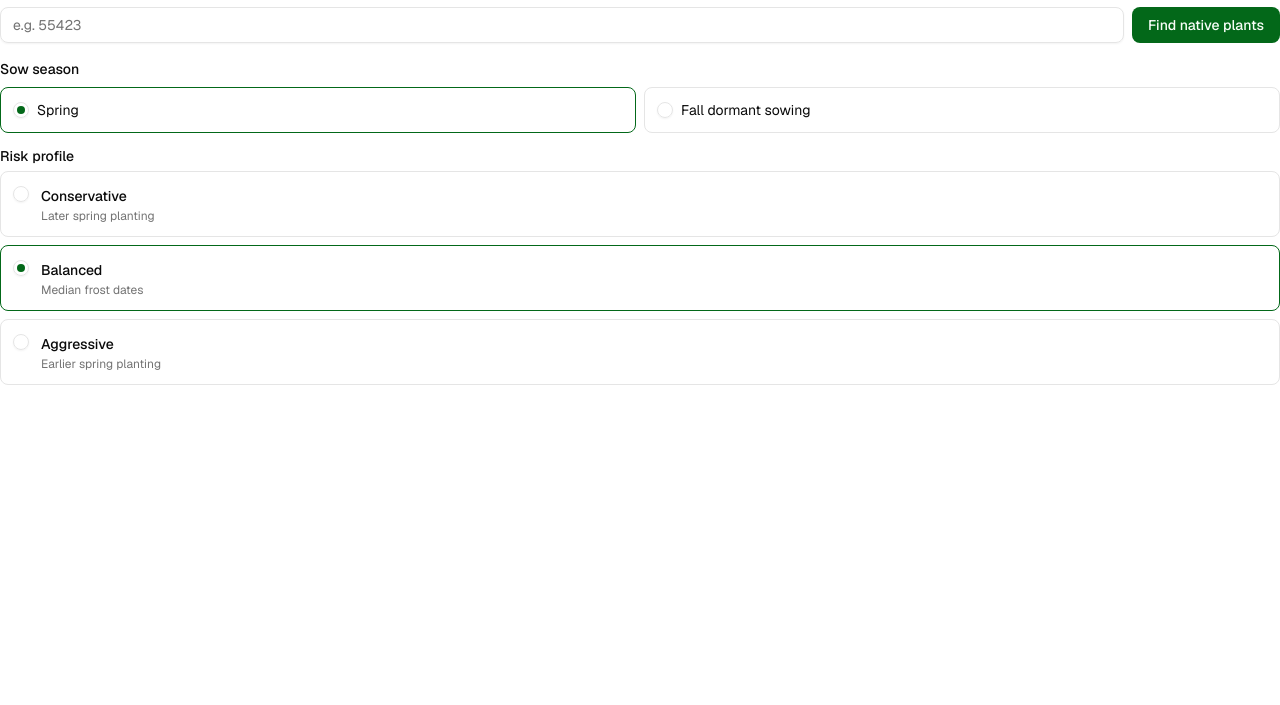
Scenario: NativesLookup range evidence › attributes a BONAP recommendation to both counties in a multi-county ZIP
In the field labelled "ZIP code": coordinates (562, 25) [0,7,1124,43], type "55423"
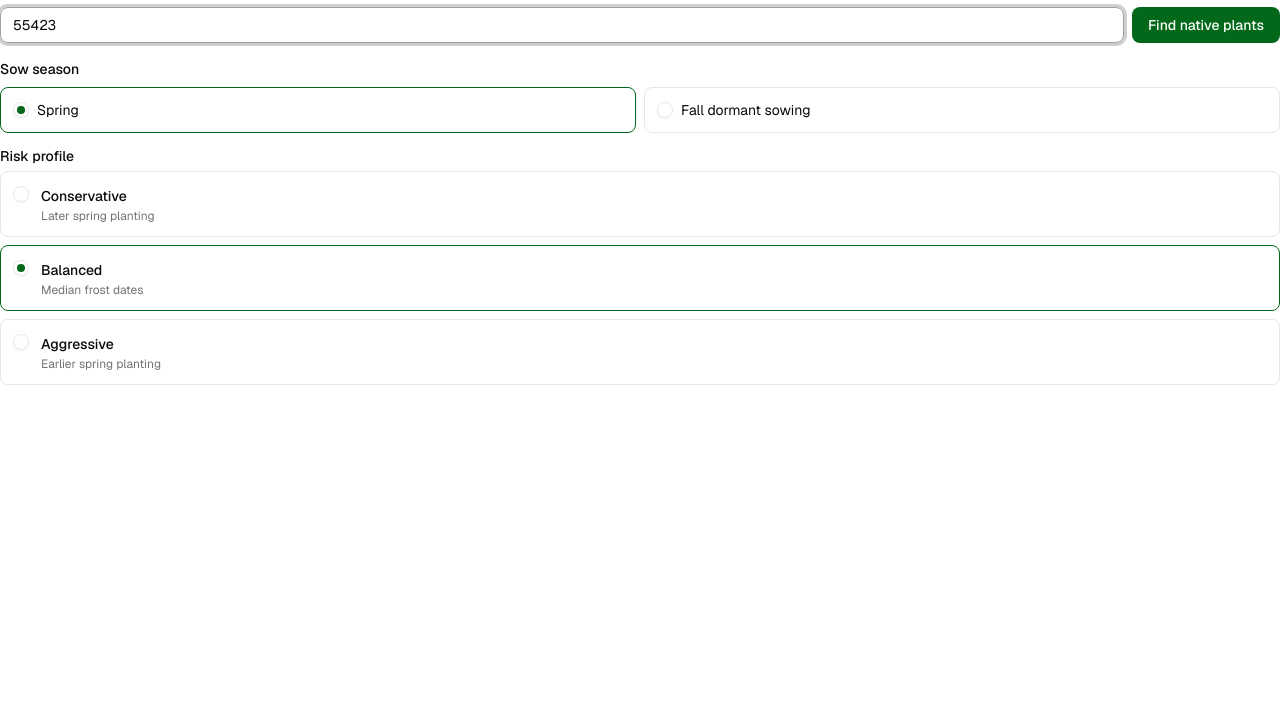
Click the button "Find native plants": coordinates (1206, 25) [1132,7,1279,43]
(page scrolled)
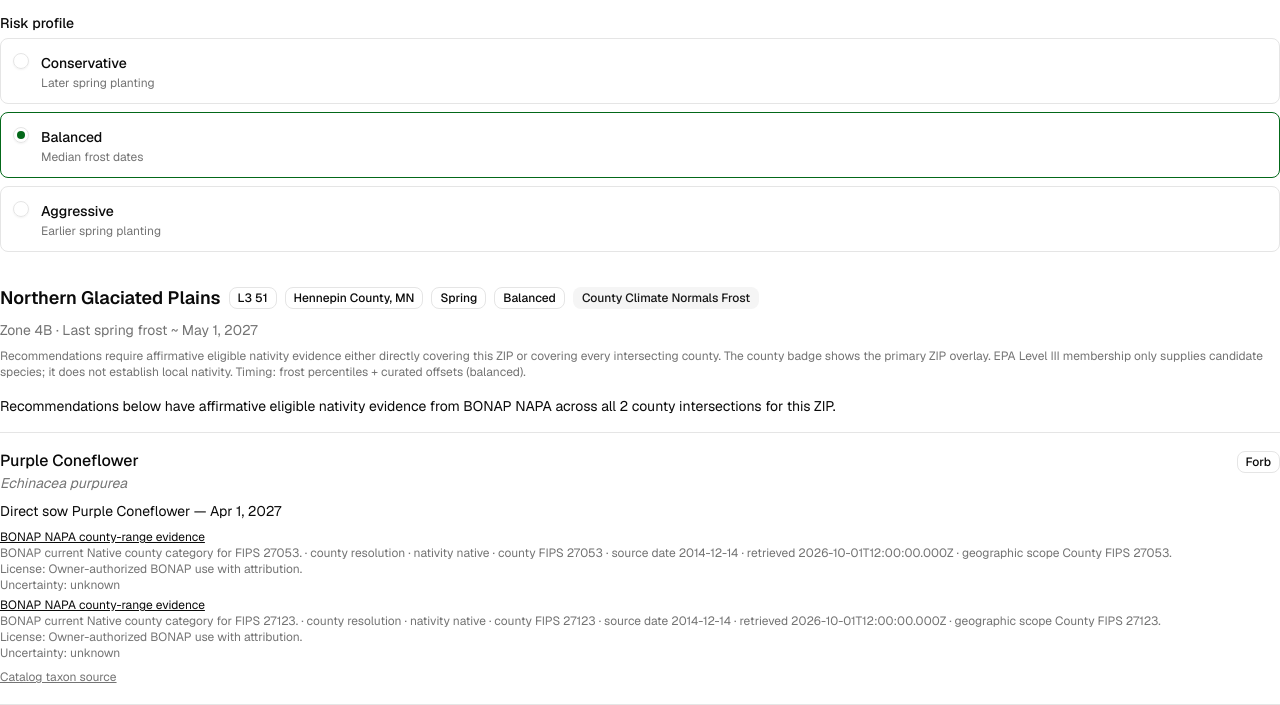
Now the text "BONAP NAPA across all 2 county intersections for this ZIP" is shown, box [0,397,836,415]
Now the text "covering every intersecting county" is shown, box [0,348,1263,380]
Now the number of links "BONAP NAPA county-range evidence" is 2, box [0,529,205,545]; [0,597,205,613]
